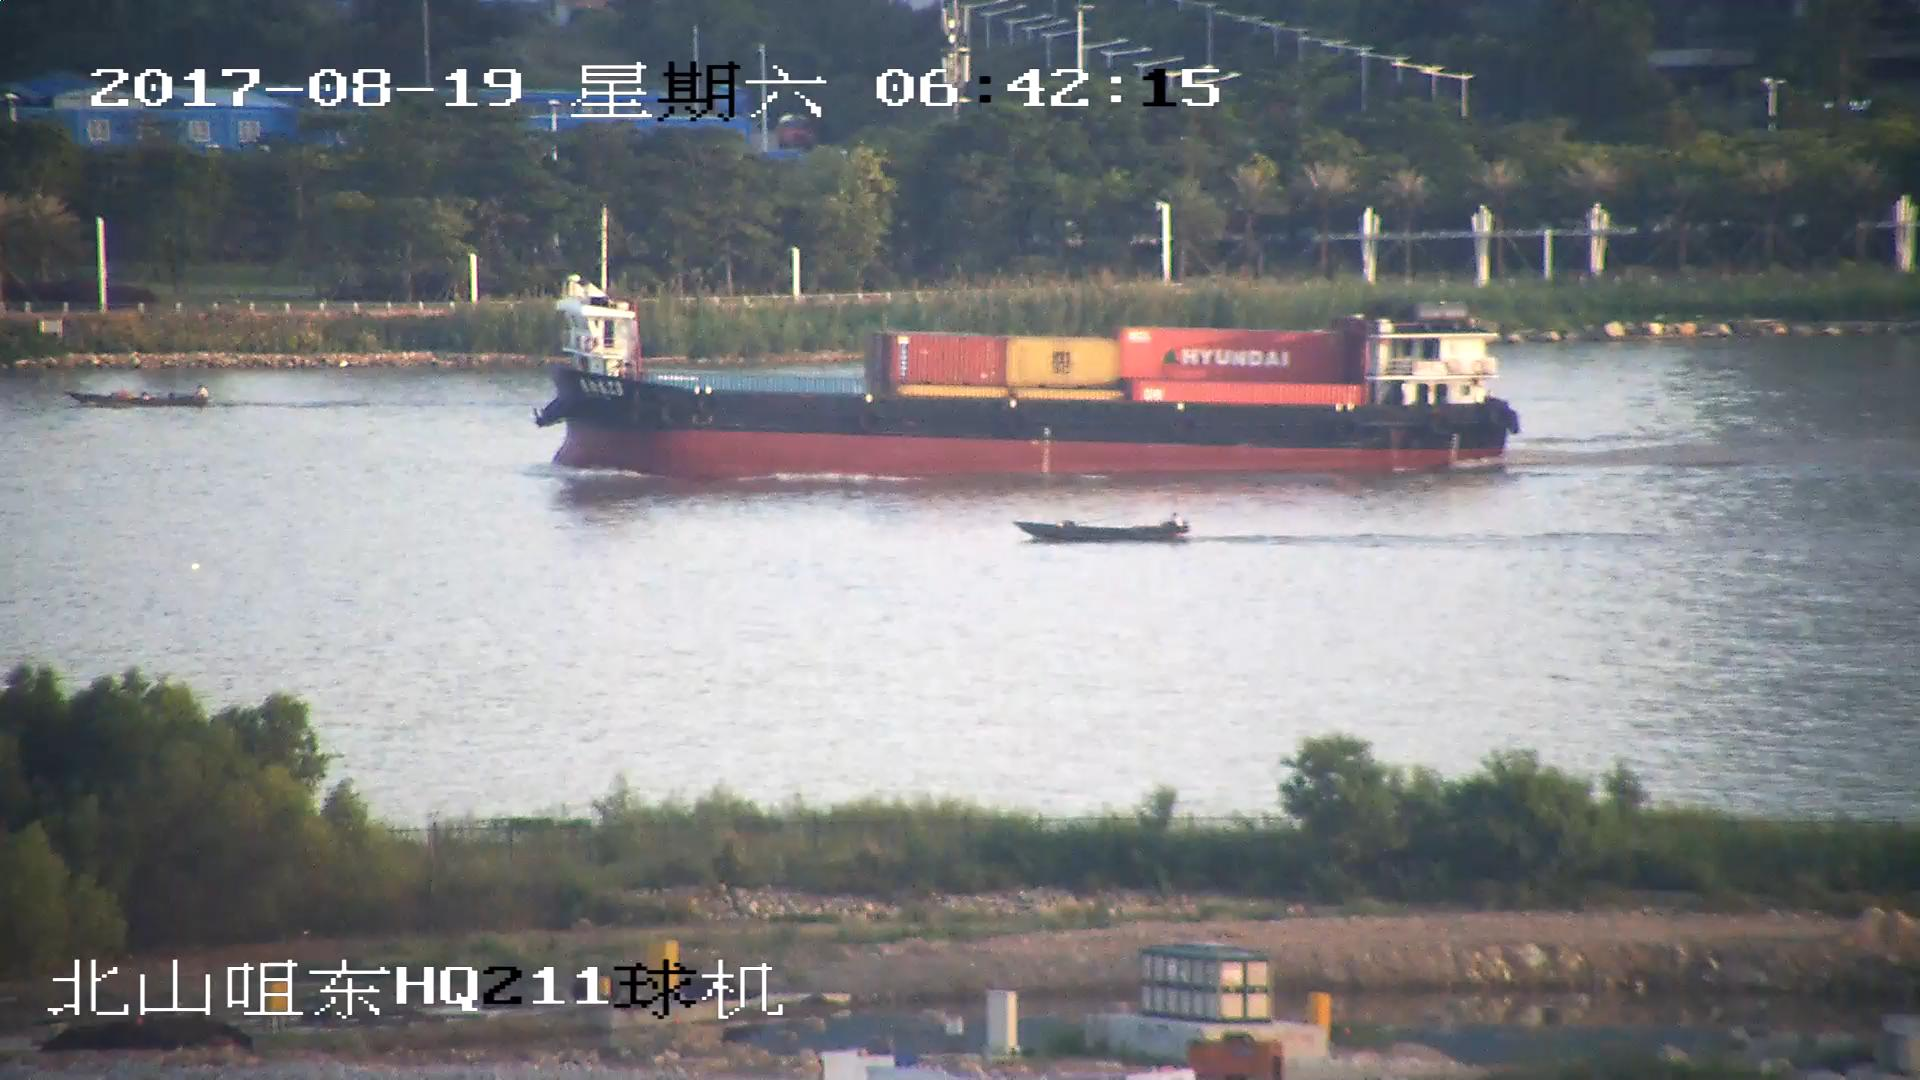container ship: (522, 269, 1522, 486)
fishing boat: (1012, 512, 1191, 548), (63, 384, 212, 410)
